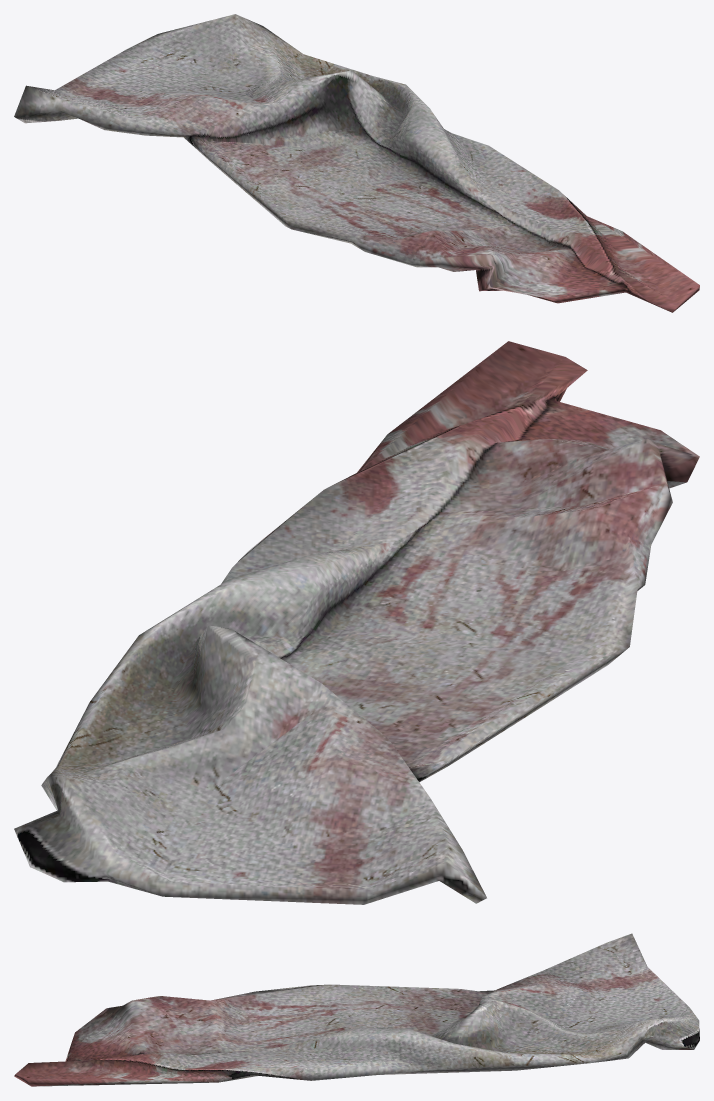
Rendered from bandage_02.dae.
3 renders of one model, top to bottom at view 1: azimuth 30°, elevation 25°; view 2: azimuth 150°, elevation 25°; view 3: azimuth 270°, elevation 25°, orthographic. The views are drawn at different scales.
Visible parts, largest first — view 1: bandage2; view 2: bandage2; view 3: bandage2.
Part boxes in pixels (x1,y1,x2,y2): bandage2: [14, 14, 699, 312]; bandage2: [14, 341, 699, 904]; bandage2: [14, 933, 699, 1086].
Bounding box in the file's own units: 0.1238 × 0.0196 × 0.2554.
